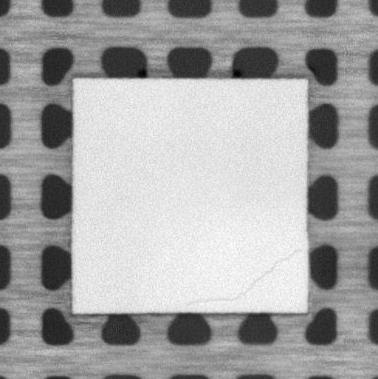DIE_CRACK: (187, 248, 303, 307)
